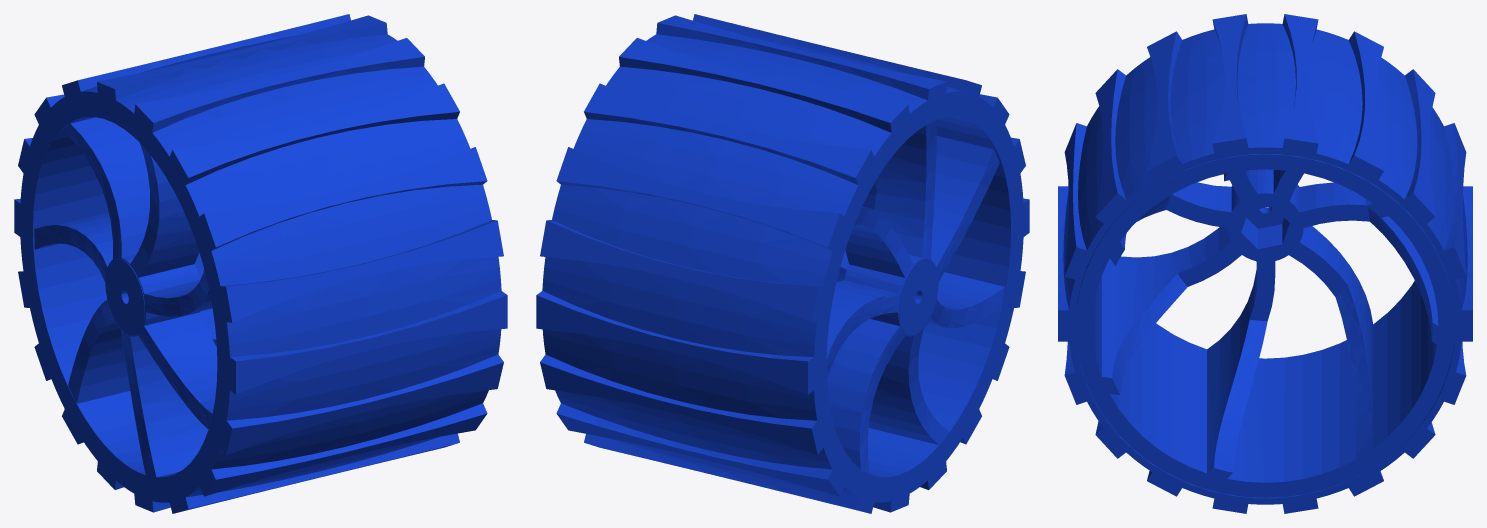
File: G_Wheel.dae
3 renders of one model, left to right at view 1: azimuth 30°, elevation 25°; view 2: azimuth 150°, elevation 25°; view 3: azimuth 270°, elevation 25°, orthographic. The views are drawn at different scales.
Parts seen in each view (by area): view 1: node0; view 2: node0; view 3: node0.
Part boxes in pixels (left/top/right/bottom): node0: left=14, top=14, right=507, bottom=513; node0: left=536, top=14, right=1029, bottom=513; node0: left=1058, top=14, right=1472, bottom=513.
Size of the model in its own units: 0.085 by 0.12 by 0.1199.
